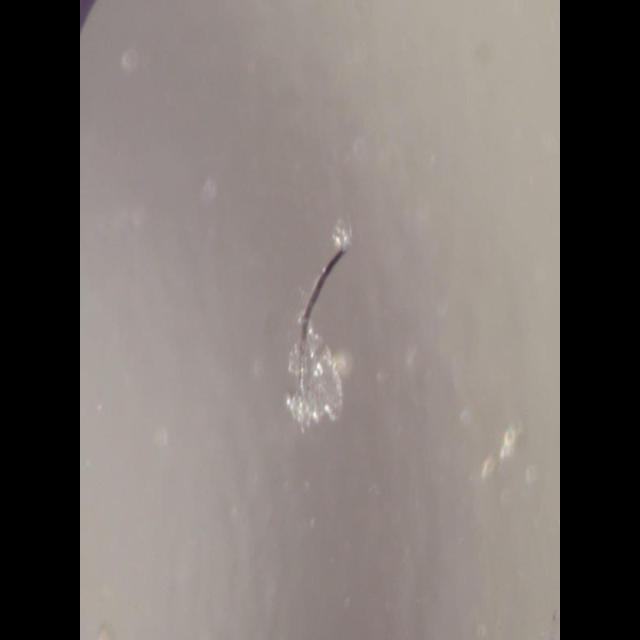Fibre: (284, 216, 352, 434)
